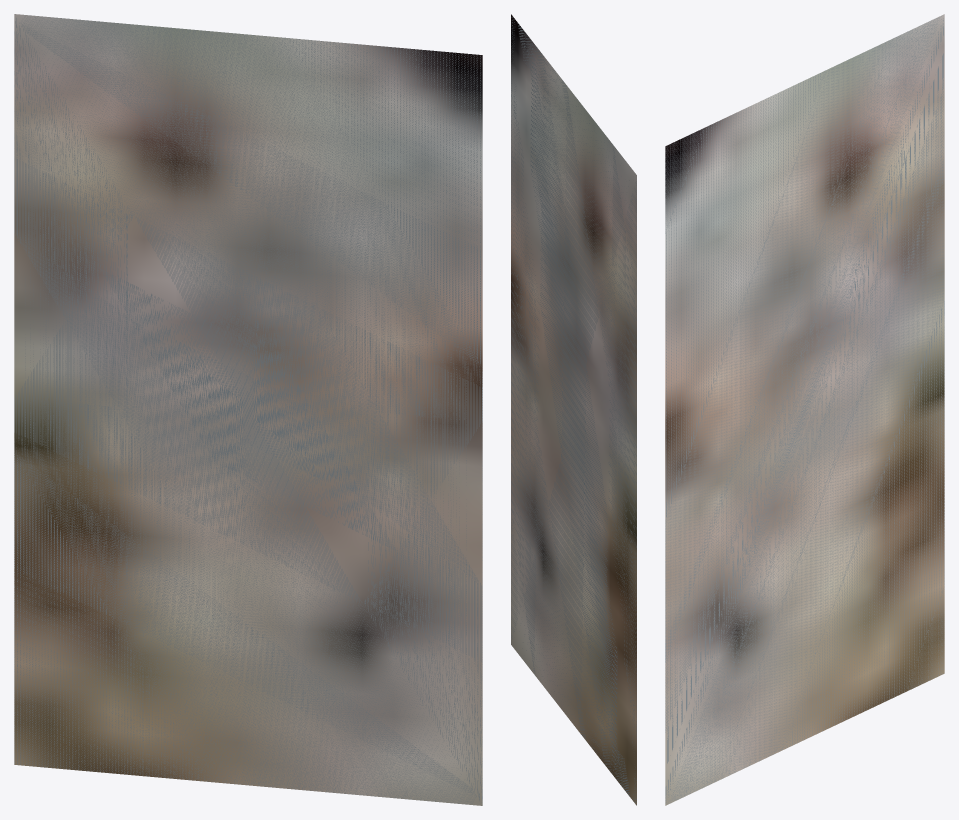
The model's file is 西庸城堡474.dae.
3 views of the same model, side by side, from view 1: azimuth 30°, elevation 25°; view 2: azimuth 150°, elevation 25°; view 3: azimuth 270°, elevation 25° (orthographic). The views are drawn at different scales.
Visible parts, largest first — view 1: SketchUp; view 2: SketchUp; view 3: SketchUp.
Part boxes in pixels (bbox=[...]): SketchUp: bbox=[14, 14, 482, 805]; SketchUp: bbox=[511, 14, 636, 805]; SketchUp: bbox=[665, 14, 944, 805].
Bounding box in the file's own units: 22.03 × 19.66 × 51.18.
